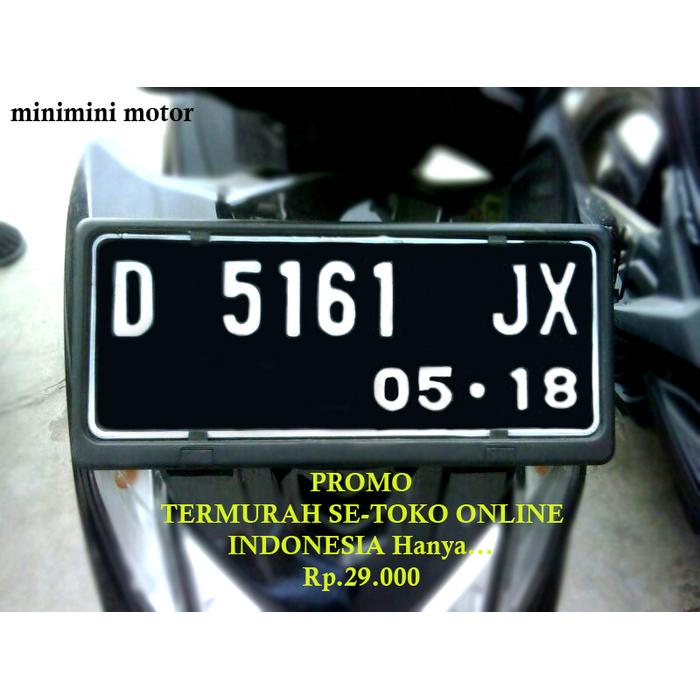plate: (93, 230, 593, 433)
